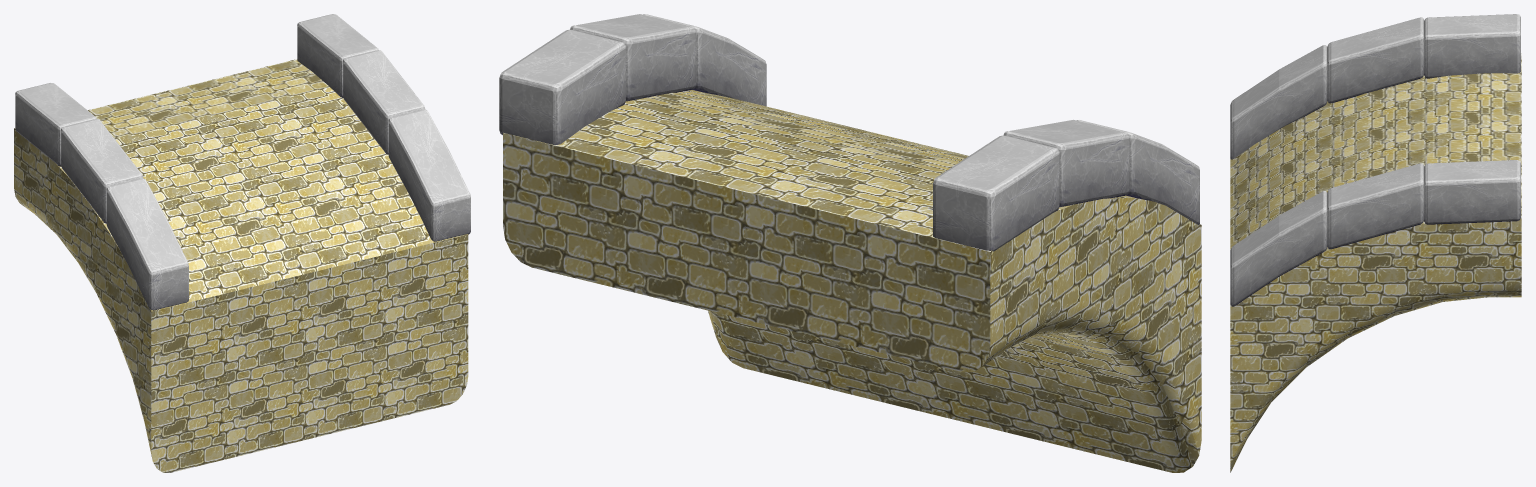
The model's file is Puente_P_Arco02.fbx.
3 renders of one model, left to right at view 1: azimuth 30°, elevation 25°; view 2: azimuth 150°, elevation 25°; view 3: azimuth 270°, elevation 25°, orthographic. The views are drawn at different scales.
Parts seen in each view (by area): view 1: Puente_P_Arco02_LOD0; view 2: Puente_P_Arco02_LOD0; view 3: Puente_P_Arco02_LOD0.
Part boxes in pixels (<box>): Puente_P_Arco02_LOD0: <box>14,14,470,472</box>; Puente_P_Arco02_LOD0: <box>499,14,1201,472</box>; Puente_P_Arco02_LOD0: <box>1230,14,1521,472</box>.
Size of what is drawn, in the model's own units: 406 by 346 by 300.
